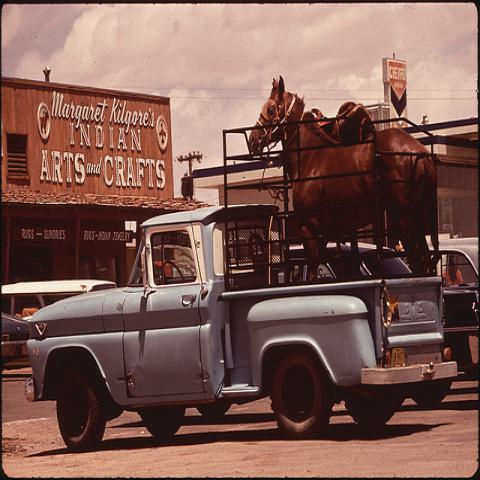car: (436, 236, 479, 383), (1, 310, 30, 361)
truck: (19, 76, 458, 454)
